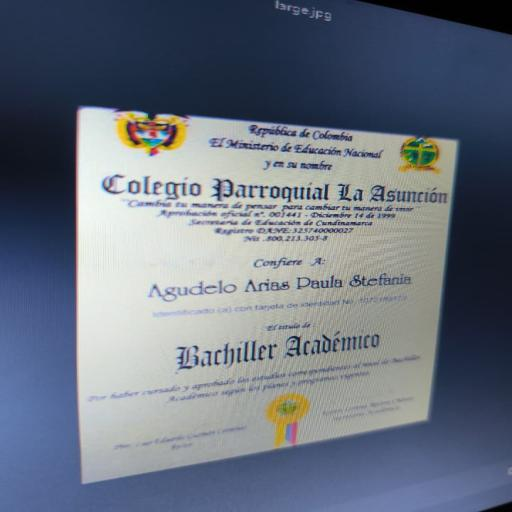bachillerato: (123, 324, 403, 383)
diploma: (73, 101, 460, 483)
escudo: (97, 104, 211, 159)
institucion: (88, 164, 457, 211)
nombre: (130, 267, 412, 300)
